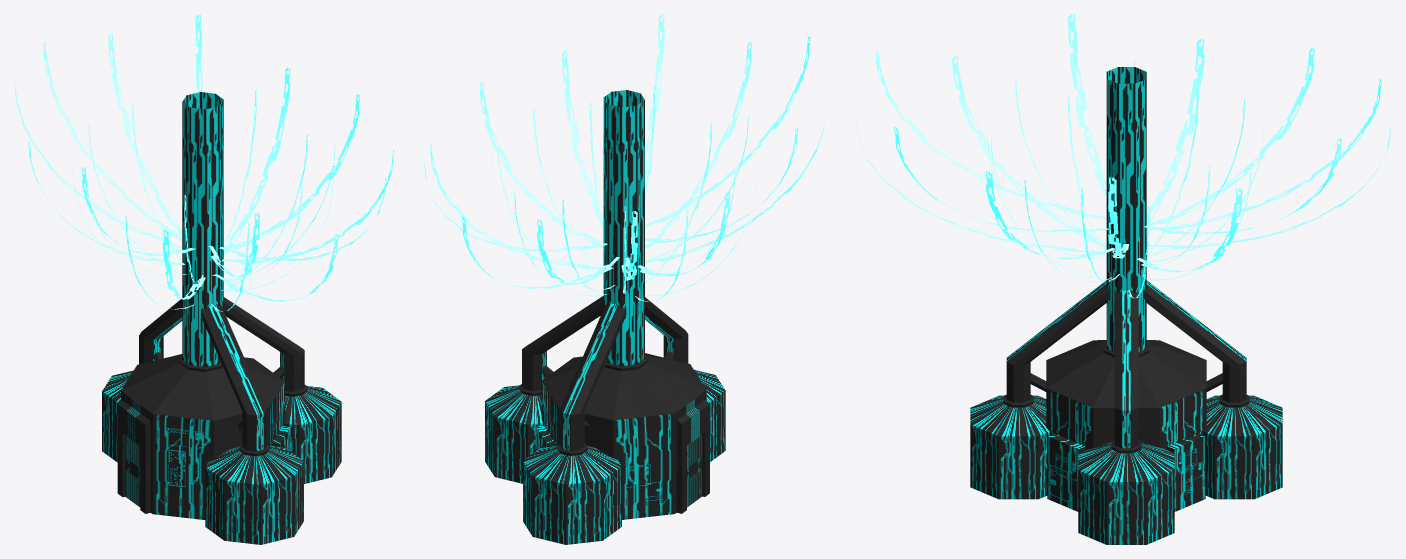
File: Mainframe.fbx
3 views of the same model, side by side, from view 1: azimuth 30°, elevation 25°; view 2: azimuth 150°, elevation 25°; view 3: azimuth 270°, elevation 25° (orthographic). The views are drawn at different scales.
Parts seen in each view (by area): view 1: Body, Cables, Interfaces; view 2: Body, Cables; view 3: Body, Cables, Interfaces.
Boxes of the visible parts, x1,y1,x2,y2 form: Body: [102, 92, 341, 544]; Cables: [14, 14, 394, 311]; Interfaces: [166, 428, 292, 486]; Body: [485, 90, 725, 544]; Cables: [423, 14, 824, 301]; Body: [970, 67, 1282, 544]; Cables: [855, 14, 1391, 298]; Interfaces: [1049, 448, 1202, 501].
Bounding box in the file's own units: 1157 × 1444 × 1740.
Materials: 3 (1 with a texture image).
